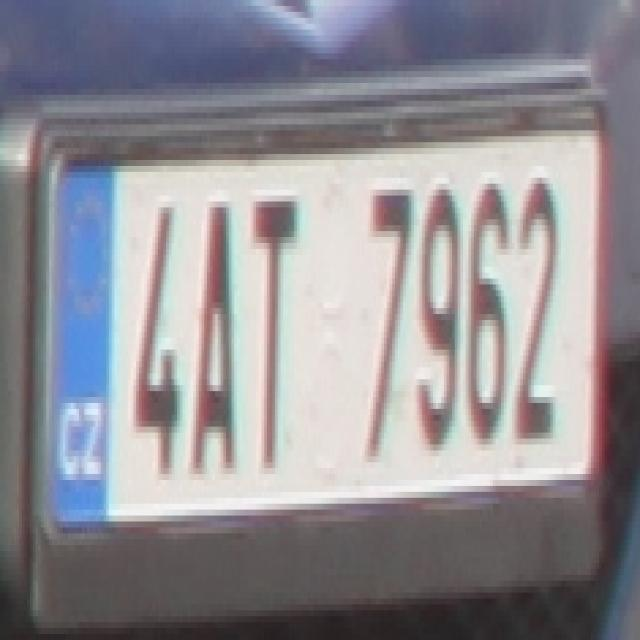2: (515, 166, 561, 438)
4: (134, 202, 182, 468)
6: (468, 178, 509, 444)
7: (360, 184, 411, 456)
9: (417, 184, 460, 456)
A: (188, 201, 240, 480)
T: (251, 196, 294, 468)
